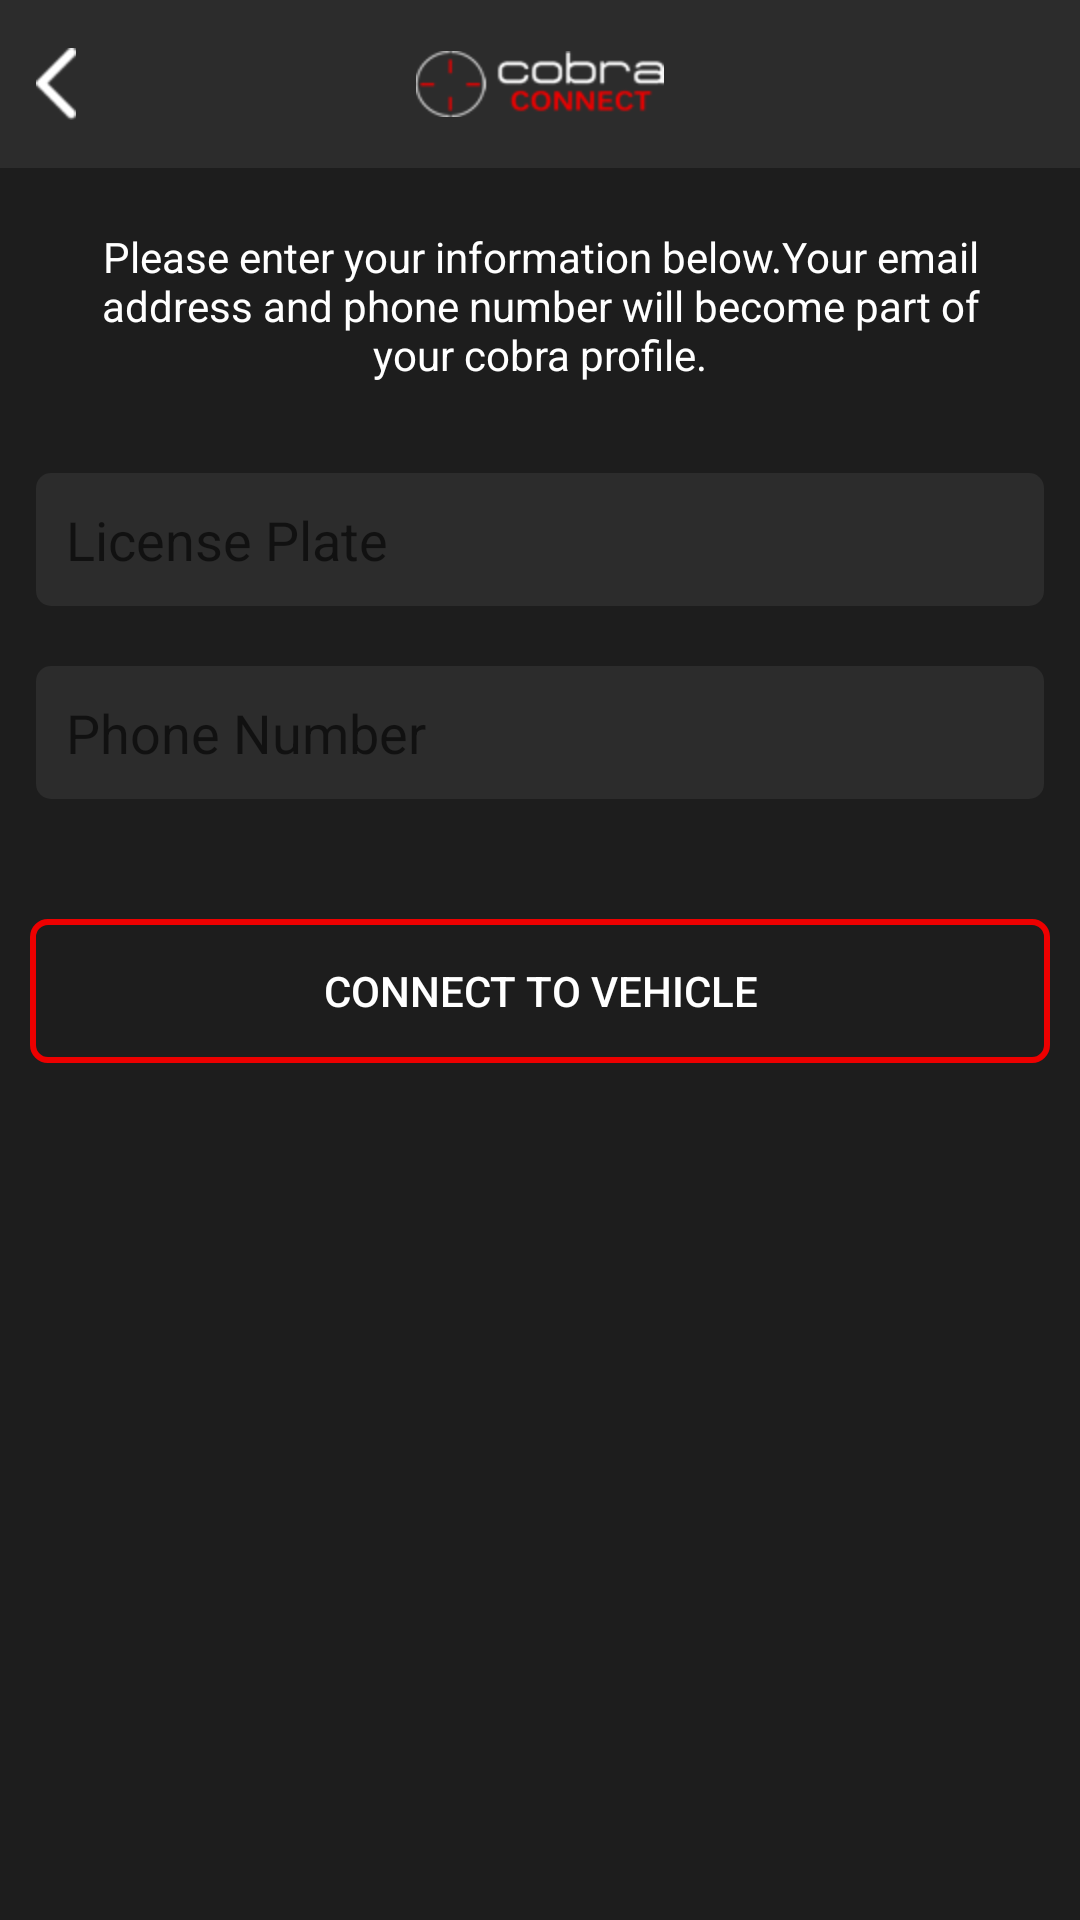

Screen size 1080 × 1920. Icon name, then its center in pixels as [x,y]:
back arrow: [56,84]
